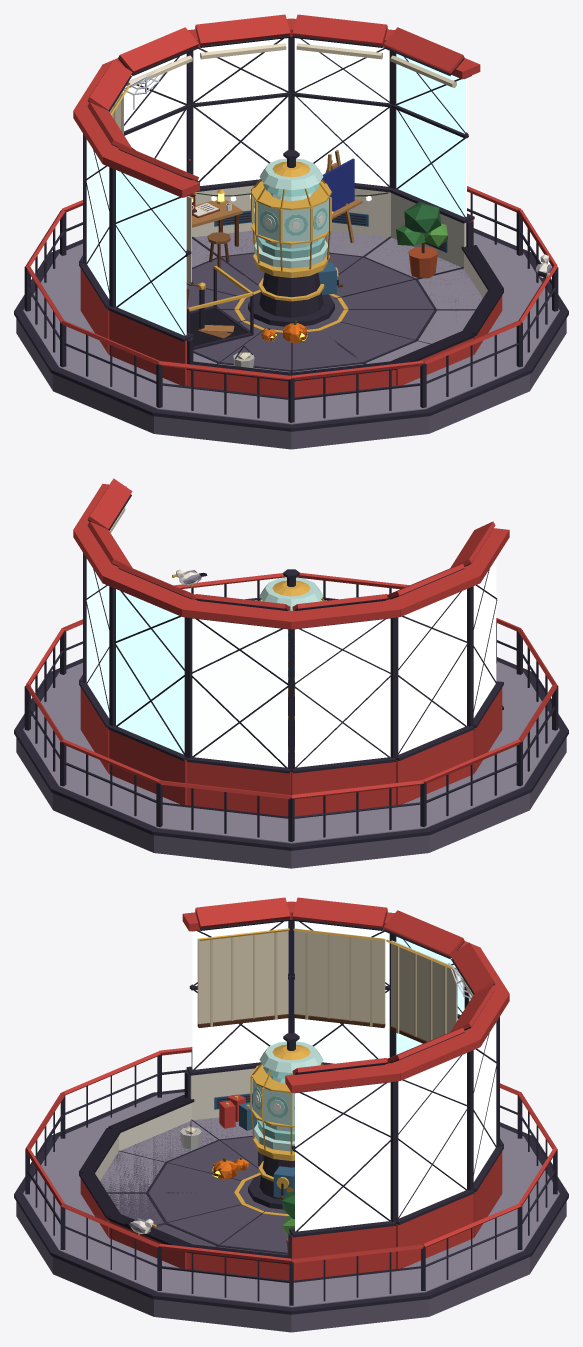
The model's file is lamproom.glb.
3 views of the same model, one above another, from view 1: azimuth 30°, elevation 25°; view 2: azimuth 150°, elevation 25°; view 3: azimuth 270°, elevation 25° (orthographic).
Visible parts, largest first — view 1: room, window_glass, railing, lens_glass, pedestal, curtains, hatch, plant, desk, painting_canvas, easel; view 2: room, window_glass, railing, lens_glass; view 3: room, window_glass, curtains, railing, lens_glass, pedestal, upkeep.
Part boxes in pixels (x1,y1,x2,y2): room: [14, 14, 568, 449]; window_glass: [86, 38, 466, 335]; railing: [24, 186, 558, 422]; lens_glass: [251, 150, 331, 273]; pedestal: [248, 261, 342, 326]; curtains: [109, 43, 456, 285]; hatch: [186, 266, 253, 349]; plant: [396, 202, 447, 278]; desk: [192, 199, 242, 268]; painting_canvas: [321, 158, 354, 211]; easel: [325, 150, 362, 242]; room: [14, 478, 568, 868]; window_glass: [86, 529, 496, 767]; railing: [24, 572, 558, 841]; lens_glass: [259, 569, 324, 692]; room: [14, 897, 568, 1332]; window_glass: [192, 921, 496, 1231]; curtains: [197, 928, 473, 1043]; railing: [25, 1047, 557, 1305]; lens_glass: [250, 1033, 323, 1156]; pedestal: [248, 1144, 294, 1209]; upkeep: [180, 1094, 256, 1149].
Bounding box in the file's own units: 12.11 × 5.62 × 12.11.
